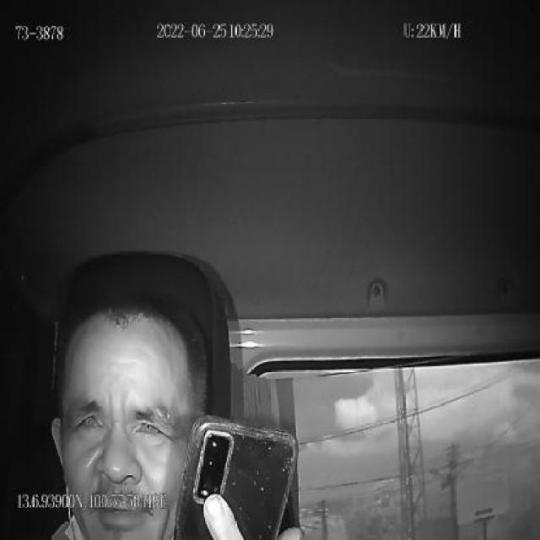phone: (176, 417, 298, 540)
